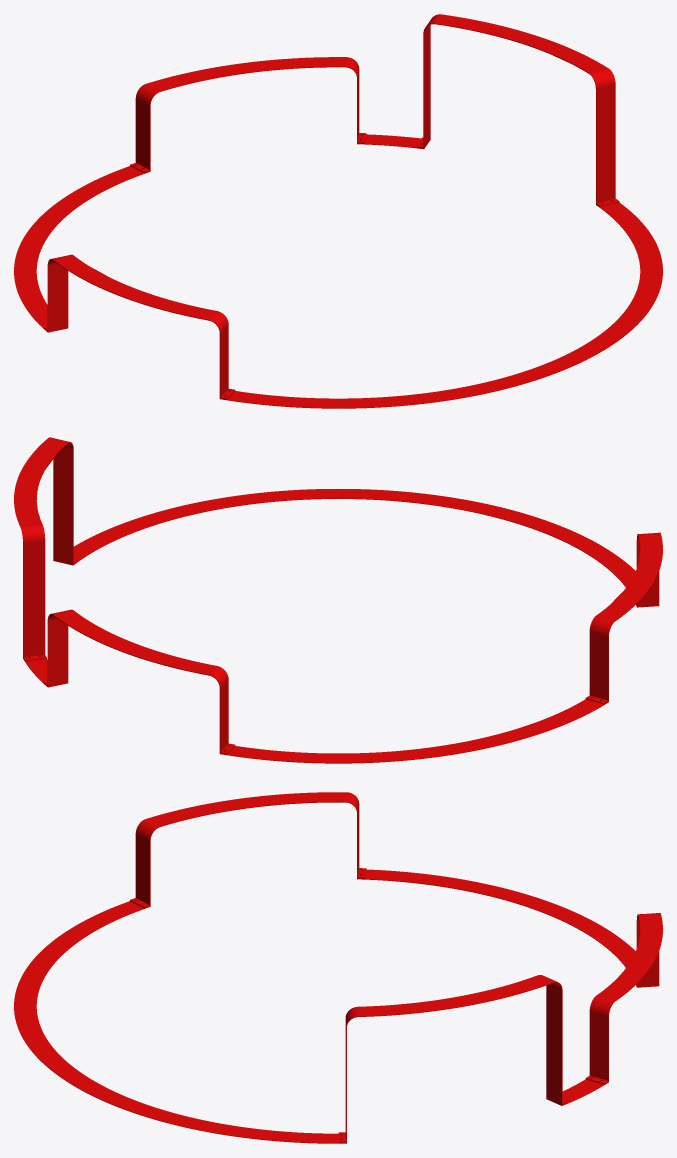
3 renders of one model, top to bottom at view 1: azimuth 30°, elevation 25°; view 2: azimuth 150°, elevation 25°; view 3: azimuth 270°, elevation 25°, orthographic.
Size of the model in its own units: 3.42 by 0.74 by 3.42.
